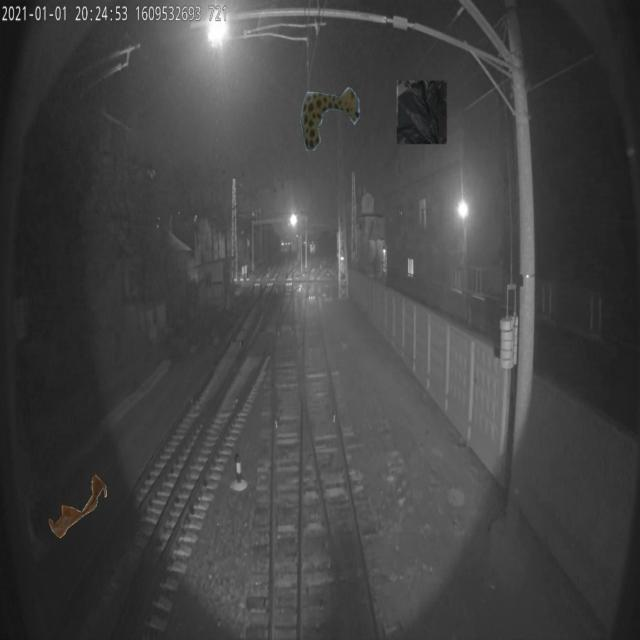floating object: (300, 86, 360, 150), (49, 474, 107, 538)
plastic bag: (396, 80, 447, 144)
